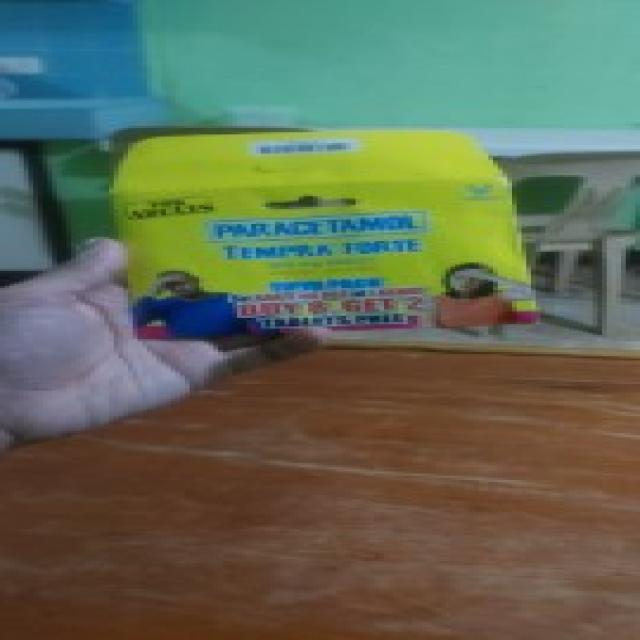Cacat: (125, 139, 502, 327)
